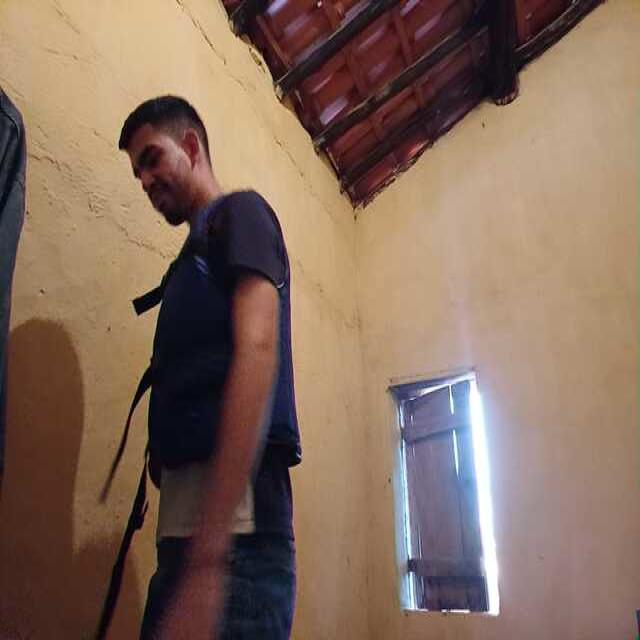colete: (151, 193, 306, 473)
pessoa: (110, 92, 305, 640)
